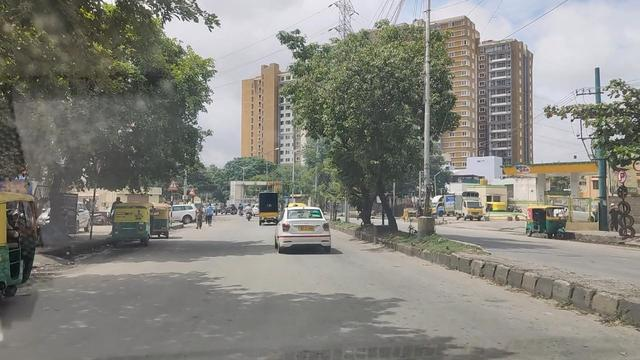LMV: (276, 202, 336, 253), (107, 207, 150, 249)
